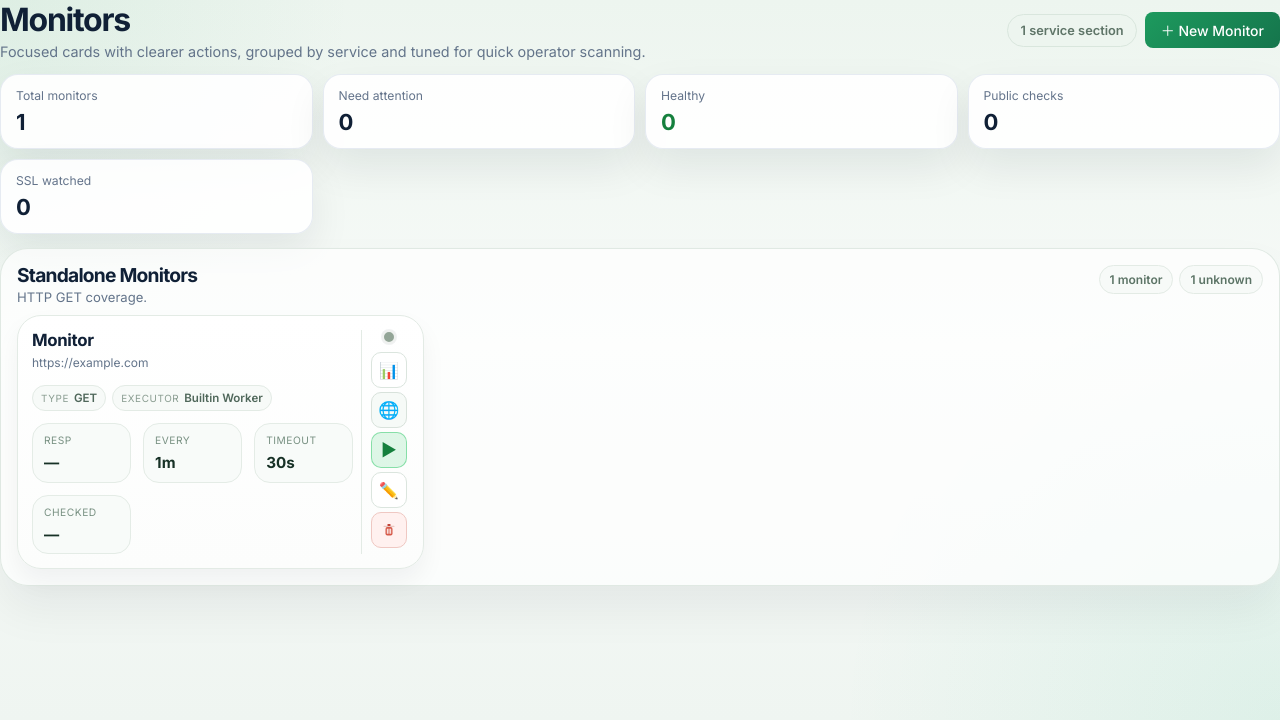
DashboardPage › cancels the delete modal without deleting the monitor
Click the button titled "Delete" at (389, 530), box [371,512,407,548]
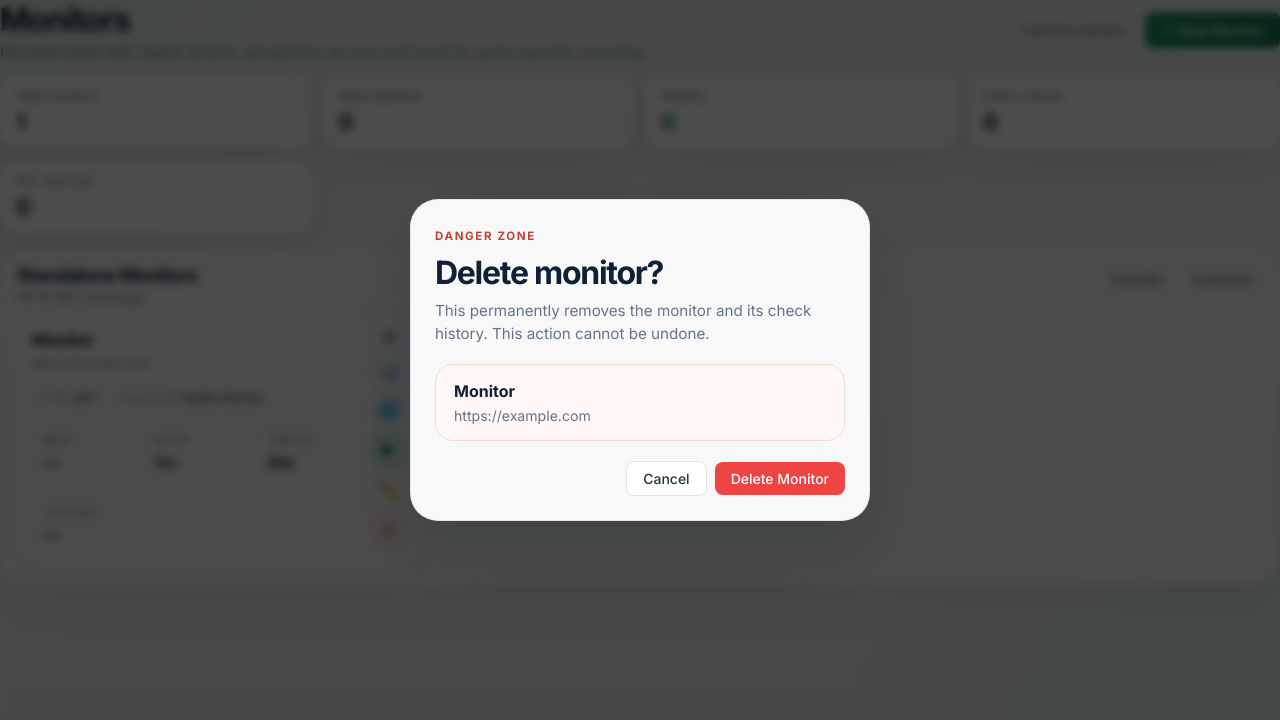
Expected: the heading "Delete monitor?" is shown, [435,253,663,292]
Click the button with test id "delete-monitor-cancel" at (666, 478), box [626,461,707,496]
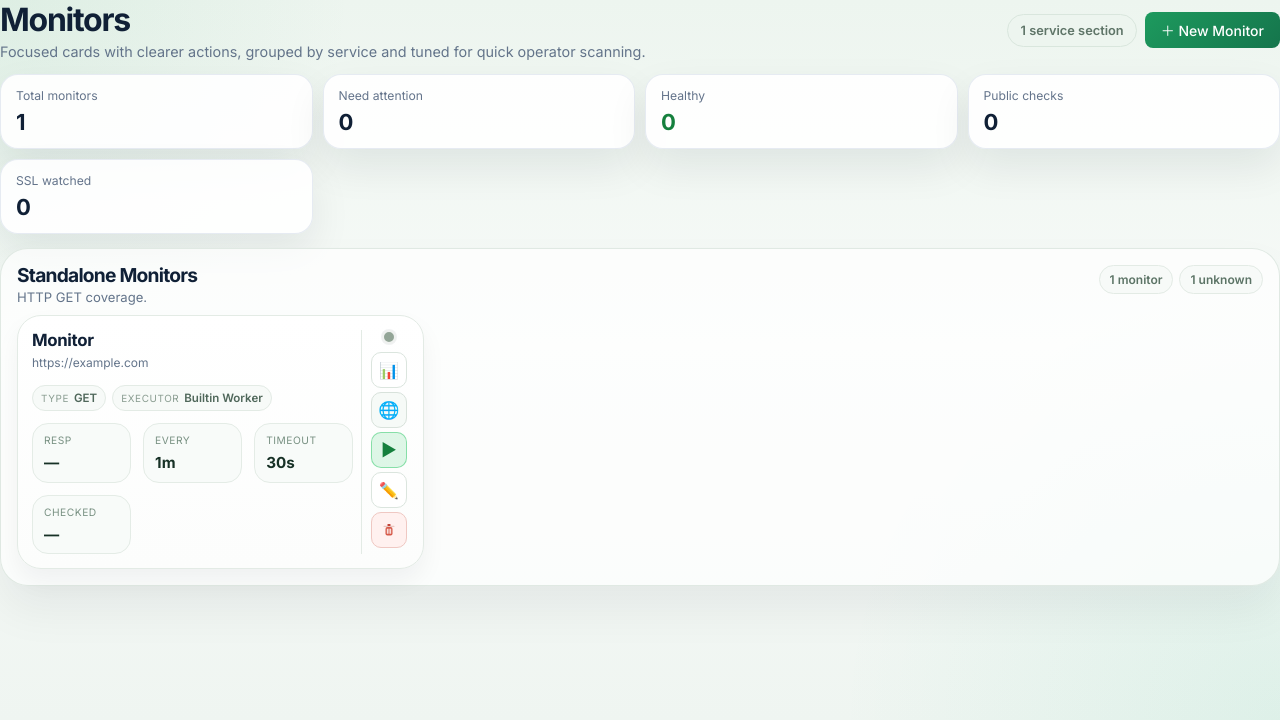
Expected: the heading "Delete monitor?" is gone
